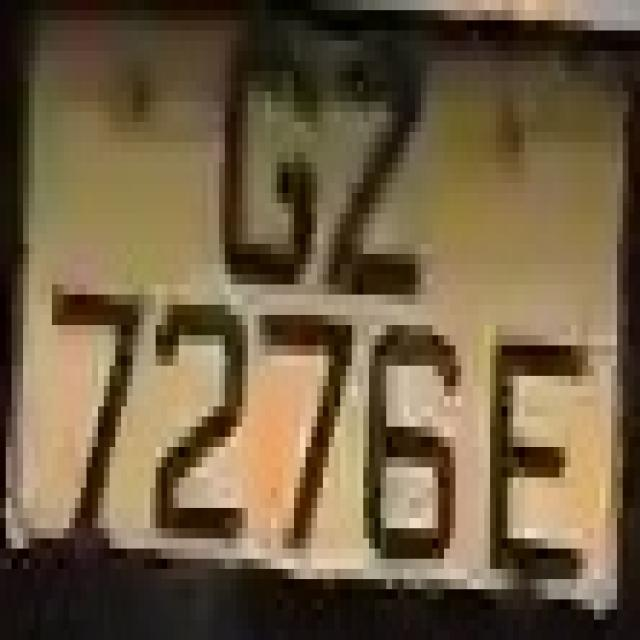2: (138, 274, 248, 589)
6: (363, 284, 473, 600)
7: (29, 254, 138, 559), (248, 284, 352, 579)
E: (473, 305, 605, 599)
G: (207, 30, 323, 305)
Z: (311, 31, 444, 294)
